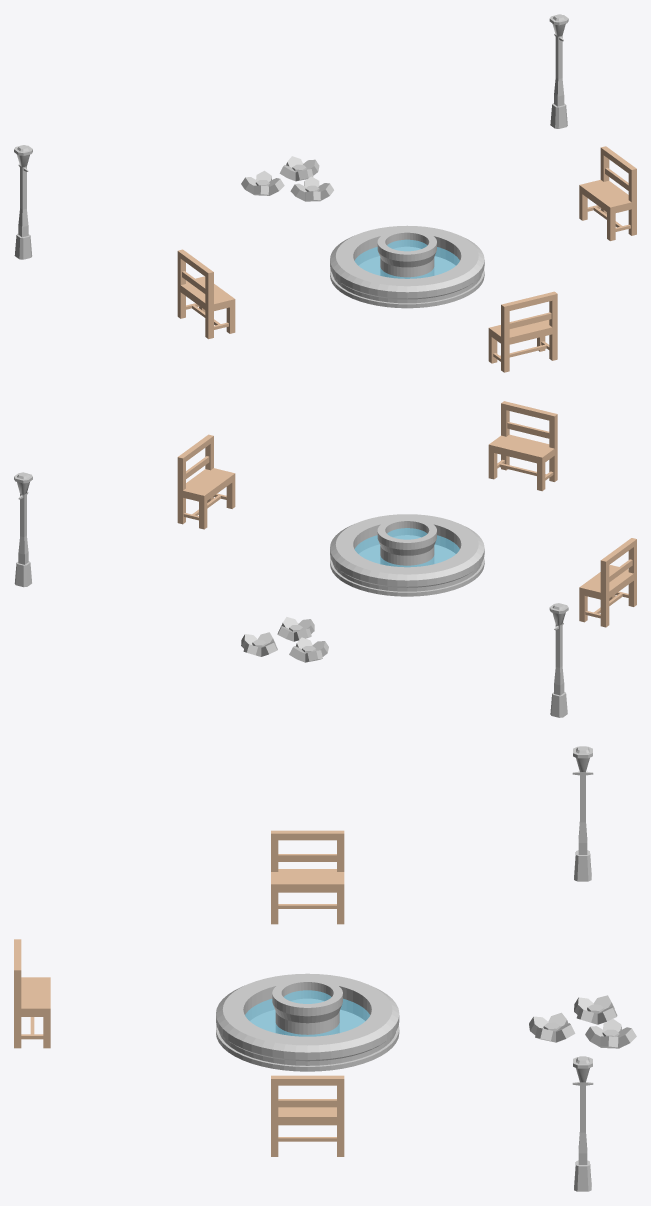
The model's file is combo-fountain-plaza.glb.
3 views of the same model, one above another, from view 1: azimuth 30°, elevation 25°; view 2: azimuth 150°, elevation 25°; view 3: azimuth 270°, elevation 25° (orthographic). The views are drawn at different scales.
Parts seen in each view (by area): view 1: 00_asset-013, 03_asset-001, 02_asset-001, 01_asset-001, 06_asset-052, 05_asset-017, 04_asset-017; view 2: 00_asset-013, 03_asset-001, 02_asset-001, 01_asset-001, 06_asset-052, 04_asset-017, 05_asset-017; view 3: 00_asset-013, 01_asset-001, 02_asset-001, 06_asset-052, 03_asset-001, 05_asset-017, 04_asset-017.
Part boxes in pixels (x1,y1,x2,y2): 00_asset-013: (330,225,484,308); 03_asset-001: (488,291,557,372); 02_asset-001: (579,146,636,240); 01_asset-001: (177,249,235,339); 06_asset-052: (241,156,333,201); 05_asset-017: (549,14,568,128); 04_asset-017: (14,145,32,259); 00_asset-013: (330,514,484,596); 03_asset-001: (488,401,557,491); 02_asset-001: (177,434,235,529); 01_asset-001: (579,538,636,627); 06_asset-052: (241,617,328,662); 04_asset-017: (549,603,568,717); 05_asset-017: (14,472,32,587); 00_asset-013: (216,973,399,1071); 01_asset-001: (271,830,344,924); 02_asset-001: (271,1075,344,1156); 06_asset-052: (529,995,636,1048); 03_asset-001: (14,939,50,1048); 05_asset-017: (572,1056,593,1191); 04_asset-017: (572,746,593,881).
Size of the model in its own units: 8.22 by 1.56 by 6.79.
